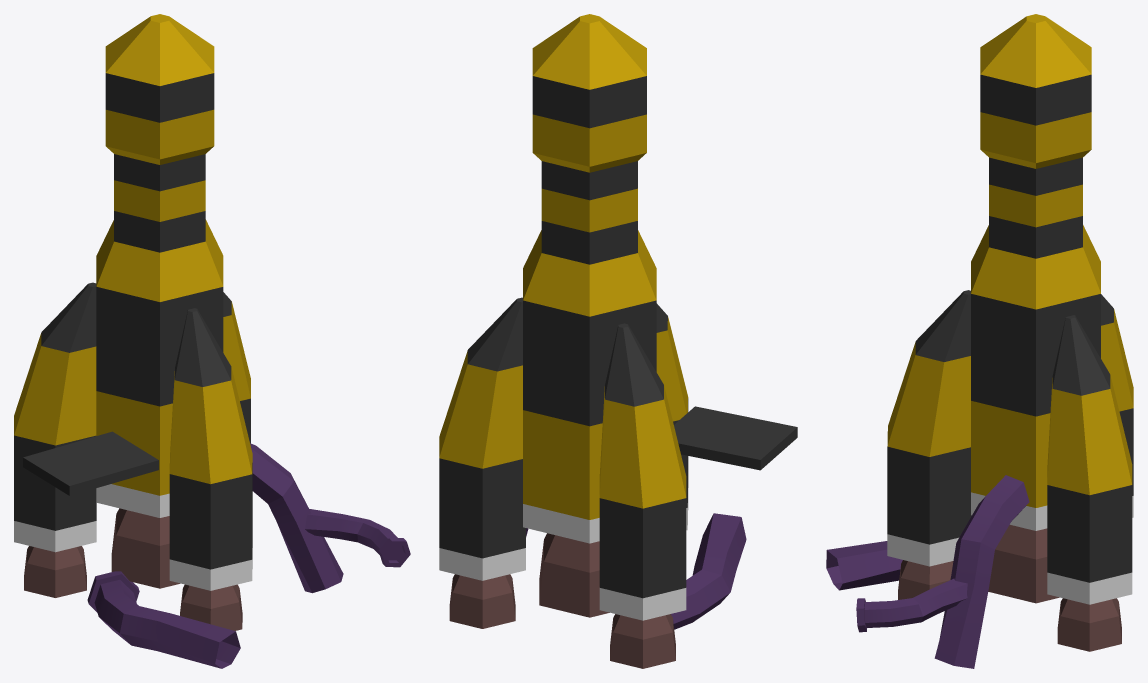
The model's file is Coete.fbx.
3 views of the same model, side by side, from view 1: azimuth 30°, elevation 25°; view 2: azimuth 150°, elevation 25°; view 3: azimuth 270°, elevation 25° (orthographic). The views are drawn at different scales.
Parts seen in each view (by area): view 1: Level05_PlatformHC2; view 2: Level05_PlatformHC2; view 3: Level05_PlatformHC2.
Part boxes in pixels (bbox=[...]): Level05_PlatformHC2: bbox=[14, 14, 410, 668]; Level05_PlatformHC2: bbox=[439, 14, 797, 668]; Level05_PlatformHC2: bbox=[826, 14, 1133, 668].
Size of the model in its own units: 840 by 1494 by 694.
